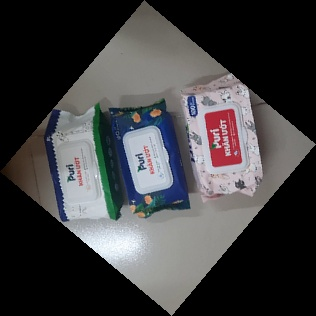Puri Trang: (46, 102, 125, 224)
Puri Xanh: (110, 99, 193, 221)
Puri hong: (178, 71, 266, 204)
